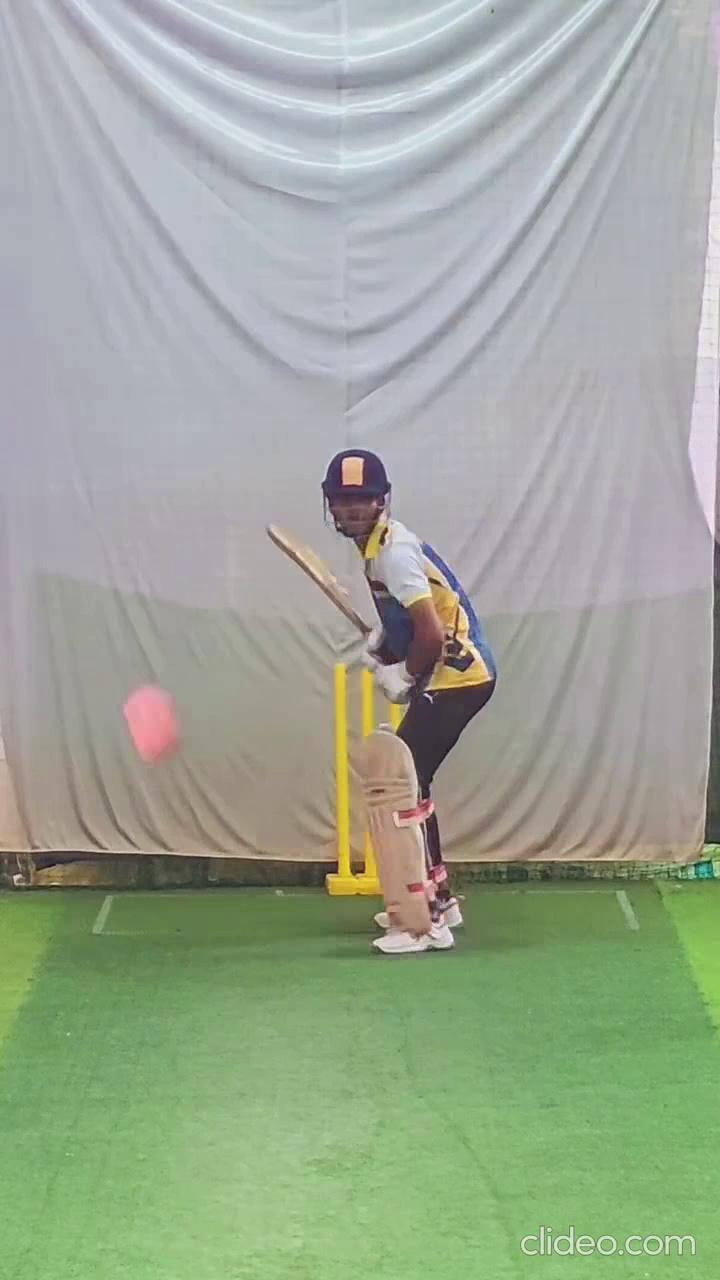bat: (259, 510, 381, 644)
